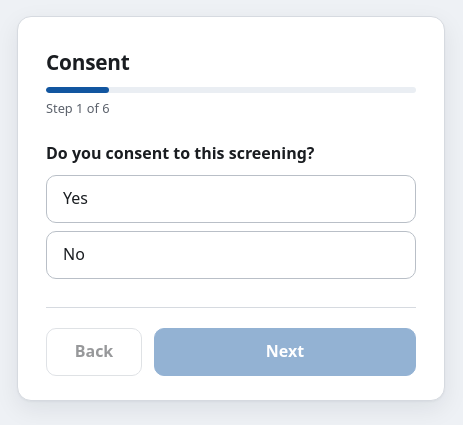
it: App › keeps Next disabled until the consent question is answered
This screenshot has width=463, height=425.
Expected: the text "Do you consent to this screening?" is shown, left=46, top=142, right=314, bottom=164
Expected: the button "Next" is disabled, left=154, top=328, right=416, bottom=376
Click the button "Yes" at (75, 198), box left=46, top=175, right=416, bottom=223
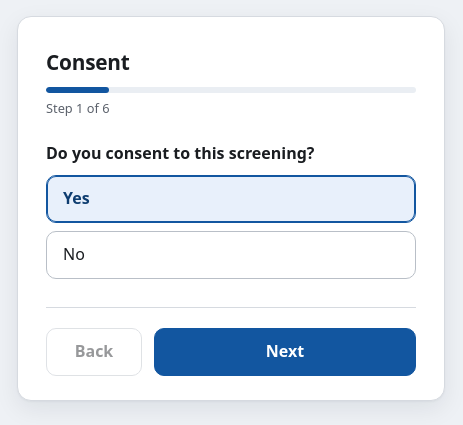
Expected: the button "Next" is enabled, left=154, top=328, right=416, bottom=376
